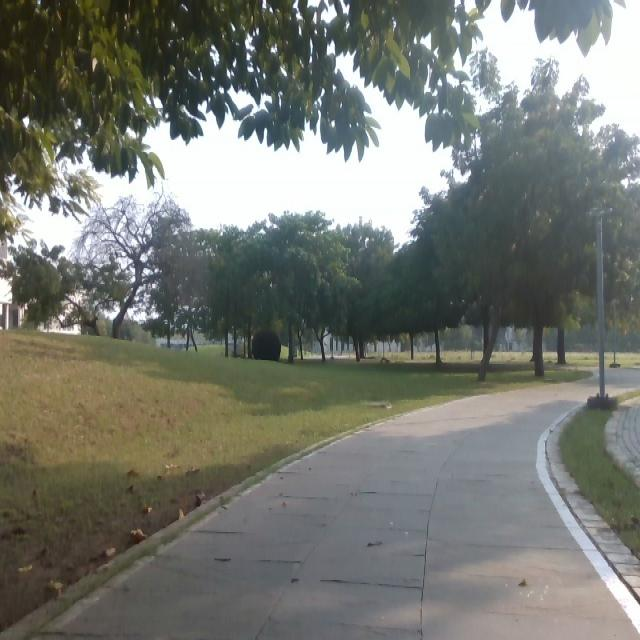lane: (60, 368, 640, 638)
